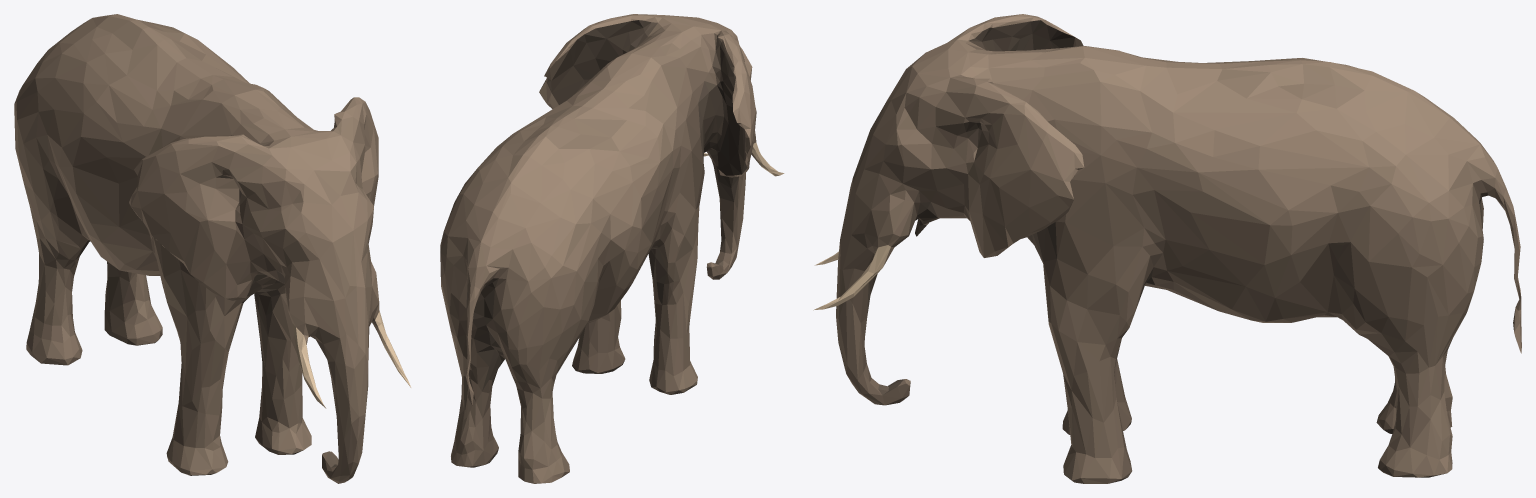
The model's file is wild-elephant.glb.
The picture shows the model from 3 angles, left to right: view 1: azimuth 30°, elevation 25°; view 2: azimuth 150°, elevation 25°; view 3: azimuth 270°, elevation 25°; orthographic projection. The views are drawn at different scales.
Visible parts, largest first — view 1: low-poly-elephant; view 2: low-poly-elephant; view 3: low-poly-elephant.
Part boxes in pixels (x1,y1,x2,y2): low-poly-elephant: (14,14,411,483); low-poly-elephant: (440,14,784,483); low-poly-elephant: (813,14,1521,483).
Bounding box in the file's own units: 2.35 × 3.4 × 5.44.
1 material, 1 textured.
